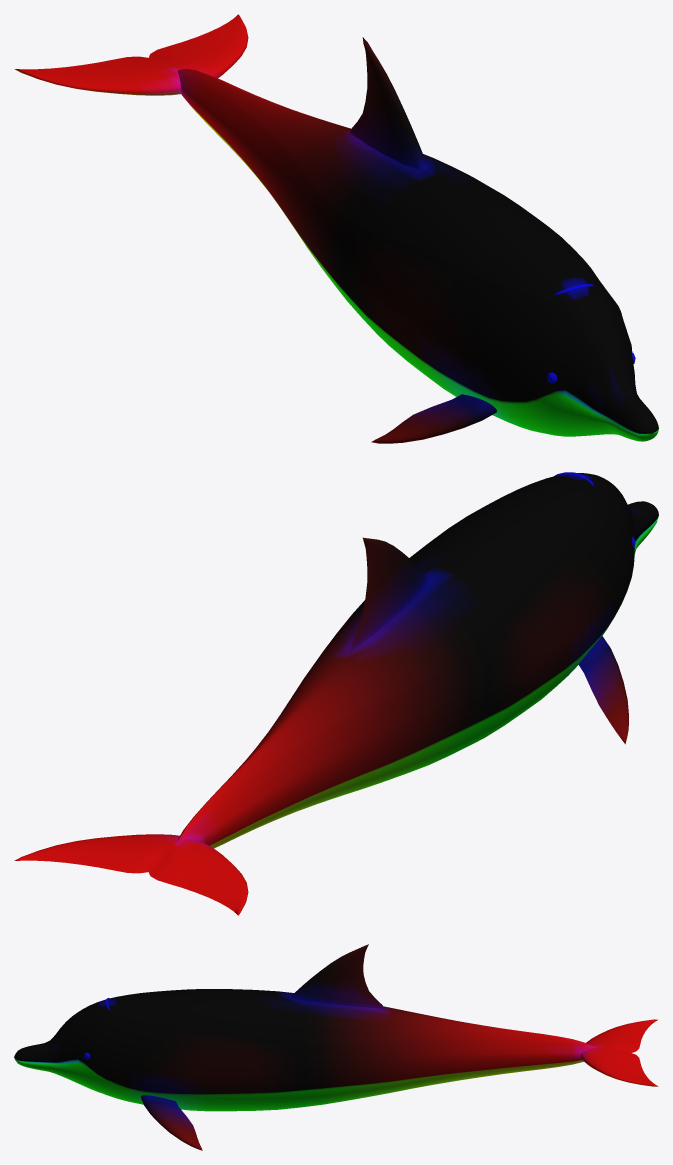
The model's file is dolphin.glb.
3 renders of one model, top to bottom at view 1: azimuth 30°, elevation 25°; view 2: azimuth 150°, elevation 25°; view 3: azimuth 270°, elevation 25°, orthographic. The views are drawn at different scales.
Parts seen in each view (by area): view 1: dolphin; view 2: dolphin; view 3: dolphin.
Part boxes in pixels (bbox=[...]): dolphin: bbox=[14, 14, 658, 443]; dolphin: bbox=[14, 472, 658, 915]; dolphin: bbox=[14, 944, 658, 1150].
Size of the model in its own units: 0.7263 by 0.7501 by 2.6.
